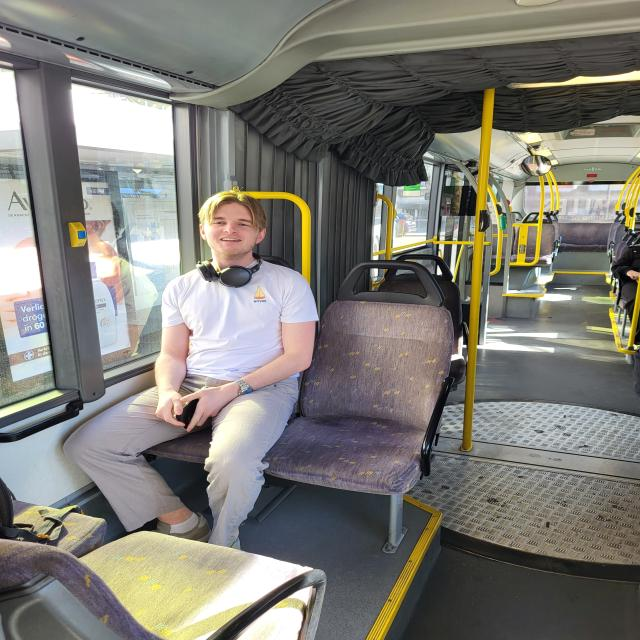empty-seat-frontal: (260, 258, 475, 498), (558, 218, 606, 254)
